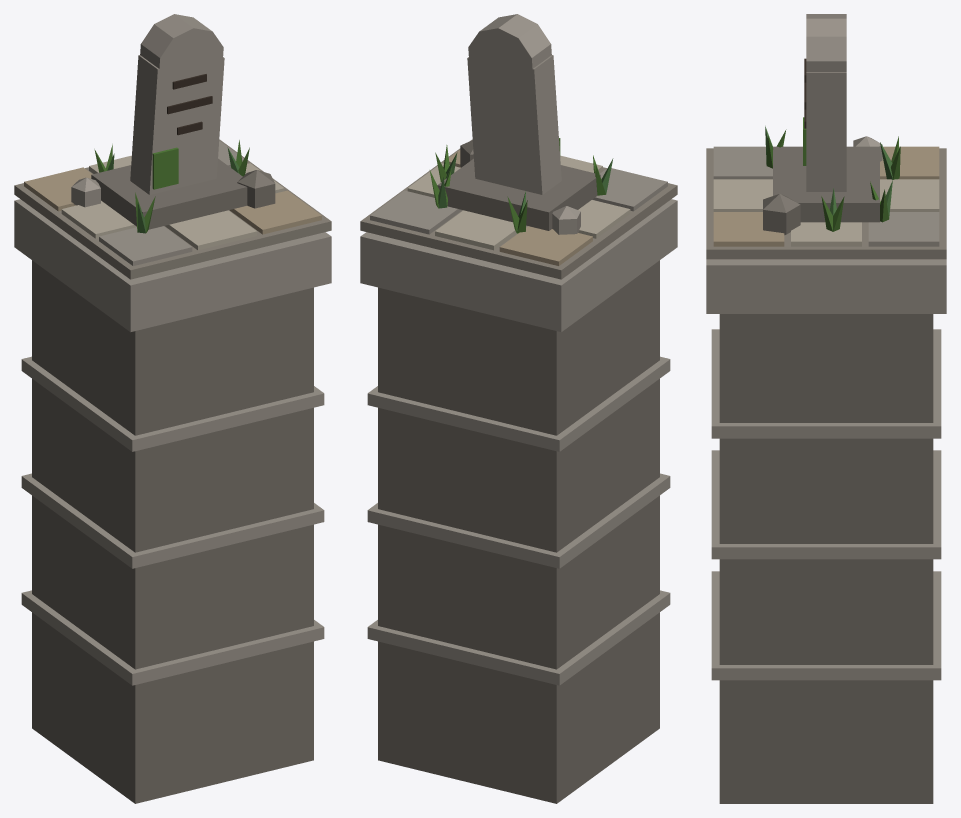
Rendered from decor_milestone.glb.
3 views of the same model, side by side, from view 1: azimuth 30°, elevation 25°; view 2: azimuth 150°, elevation 25°; view 3: azimuth 270°, elevation 25° (orthographic). The views are drawn at different scales.
Visible parts, largest first — view 1: decor_milestone; view 2: decor_milestone; view 3: decor_milestone.
Part boxes in pixels (x1,y1,x2,y2): decor_milestone: (14, 14, 331, 803); decor_milestone: (360, 14, 677, 803); decor_milestone: (706, 14, 946, 803).
Size of the model in its own units: 1.8 by 6.17 by 1.8.
